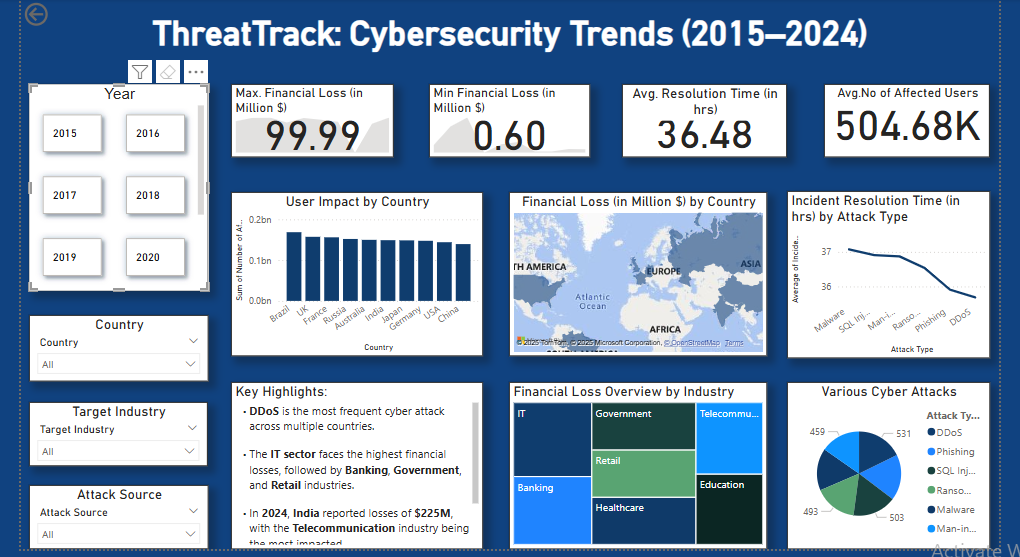

What the dashboard file says about the page in this screenshot:
{"tool":"powerbi","page":{"name":"Page 1","canvas":[1280,720],"ordinal":0},"visuals":[{"type":"pieChart","title":"Various Cyber Attacks","fields":{"Category":["Global_Cybersecurity_Threats_2015-2024.Attack Type"],"Y":["CountNonNull(Global_Cybersecurity_Threats_2015-2024.Attack Type)"]},"box":[1003.4,501,265.6,218.8],"z":0},{"type":"treemap","title":"Financial Loss Overview by Industry ","fields":{"Values":["Sum(Global_Cybersecurity_Threats_2015-2024.Financial Loss (in Million $))"],"Group":["Global_Cybersecurity_Threats_2015-2024.Target Industry"]},"box":[639.4,501.1,338.4,218.9],"z":1000},{"type":"lineChart","title":"Incident Resolution Time (in hrs) by Attack Type","fields":{"Category":["Global_Cybersecurity_Threats_2015-2024.Attack Type"],"Y":["Avg(Global_Cybersecurity_Threats_2015-2024.Incident Resolution Time (in Hours))"]},"box":[1003.4,251.9,265.6,218.8],"z":2000},{"type":"lineStackedColumnComboChart","title":"User Impact by Country","fields":{"Category":["Global_Cybersecurity_Threats_2015-2024.Country"],"Y":["Sum(Global_Cybersecurity_Threats_2015-2024.Number of Affected Users)"]},"box":[275,252,329.8,214.6],"z":3000},{"type":"kpi","title":"Min Financial Loss (in Million $) ","fields":{"Indicator":["Min(Global_Cybersecurity_Threats_2015-2024.Financial Loss (in Million $))"],"TrendLine":["Global_Cybersecurity_Threats_2015-2024.Year"]},"box":[534,111.5,210.6,96.3],"z":4000},{"type":"kpi","title":"Max. Financial Loss (in Million $) ","fields":{"Indicator":["Max(Global_Cybersecurity_Threats_2015-2024.Financial Loss (in Million $))"],"TrendLine":["Global_Cybersecurity_Threats_2015-2024.Year"]},"box":[275.3,111.5,213.3,96.3],"z":5000},{"type":"card","title":"Avg. Resolution Time (in hrs)","fields":{"Values":["Avg(Global_Cybersecurity_Threats_2015-2024.Incident Resolution Time (in Hours))"]},"box":[787.3,111.5,216.1,96.3],"z":6000},{"type":"advancedSlicerVisual","fields":{"Values":["Global_Cybersecurity_Threats_2015-2024.Year"]},"box":[11,111.5,235.4,271.1],"z":7000},{"type":"textbox","title":" ThreatTrack: Cybersecurity Trends (2015–2024)","box":[99.4,20.2,1080,57.6],"z":8000},{"type":"slicer","title":"Attack Source","fields":{"Values":["Global_Cybersecurity_Threats_2015-2024.Attack Source"]},"box":[11,635.9,235.4,84],"z":9000},{"type":"slicer","title":"Target Industry","fields":{"Values":["Global_Cybersecurity_Threats_2015-2024.Target Industry"]},"box":[11,527.1,234,84],"z":10000},{"type":"filledMap","title":"Financial Loss (in Million $) by Country","fields":{"Category":["Global_Cybersecurity_Threats_2015-2024.Country"]},"box":[639.4,252,338.4,214.6],"z":11000},{"type":"actionButton","box":[0,0,100,40],"z":12000},{"type":"card","title":"Avg.No of Affected Users","fields":{"Values":["Avg(Global_Cybersecurity_Threats_2015-2024.Number of Affected Users)"]},"box":[1051.5,111.5,217.5,96.3],"z":13000},{"type":"slicer","title":"Country","fields":{"Values":["Global_Cybersecurity_Threats_2015-2024.Country"]},"box":[11,414.3,235.4,86.7],"z":14000},{"type":"textbox","title":"Key Highlights:","box":[275.3,501,330.3,218.8],"z":15001}]}

Visuals, with their boxes in screenshot pixels (x1, y1, x2, y2):
"Various Cyber Attacks" pieChart: x1=785, y1=380, x2=988, y2=547
"Financial Loss Overview by Industry " treemap: x1=507, y1=380, x2=766, y2=547
"Incident Resolution Time (in hrs) by Attack Type" lineChart: x1=785, y1=190, x2=988, y2=357
"User Impact by Country" lineStackedColumnComboChart: x1=229, y1=190, x2=481, y2=354
"Min Financial Loss (in Million $) " kpi: x1=427, y1=83, x2=587, y2=156
"Max. Financial Loss (in Million $) " kpi: x1=229, y1=83, x2=392, y2=156
"Avg. Resolution Time (in hrs)" card: x1=620, y1=83, x2=785, y2=156
advancedSlicerVisual - Global_Cybersecurity_Threats_2015-2024.Year: x1=27, y1=83, x2=207, y2=290
" ThreatTrack: Cybersecurity Trends (2015–2024)" textbox: x1=95, y1=13, x2=920, y2=57
"Attack Source" slicer: x1=27, y1=483, x2=207, y2=547
"Target Industry" slicer: x1=27, y1=400, x2=206, y2=464
"Financial Loss (in Million $) by Country" filledMap: x1=507, y1=190, x2=766, y2=354
actionButton: x1=19, y1=0, x2=95, y2=28
"Avg.No of Affected Users" card: x1=822, y1=83, x2=988, y2=156
"Country" slicer: x1=27, y1=314, x2=207, y2=380
"Key Highlights:" textbox: x1=229, y1=380, x2=481, y2=547
